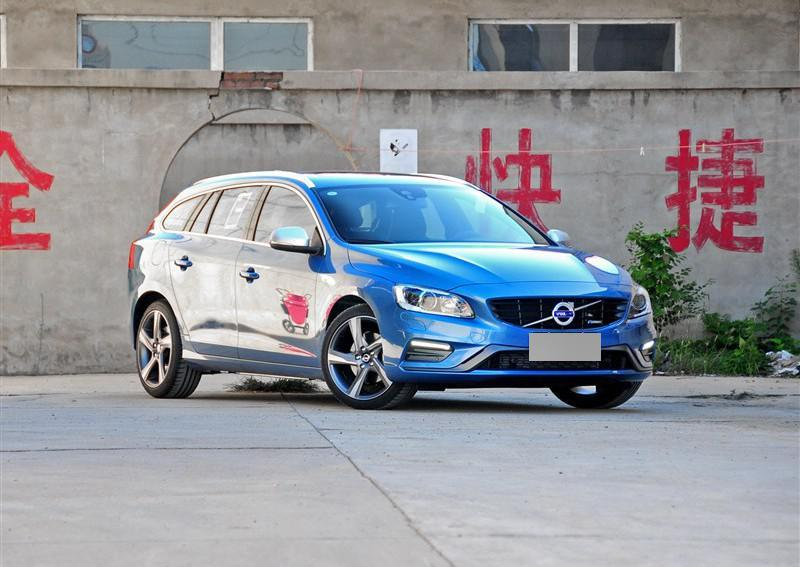Wagon: (121, 168, 663, 413)
